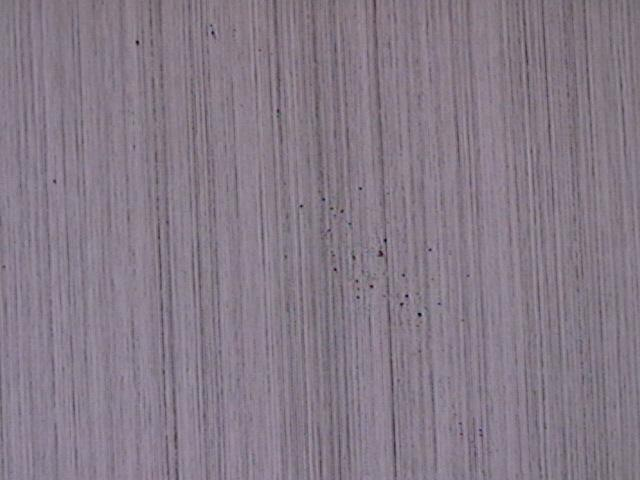PO CONTAMINATION: (298, 194, 486, 450)
